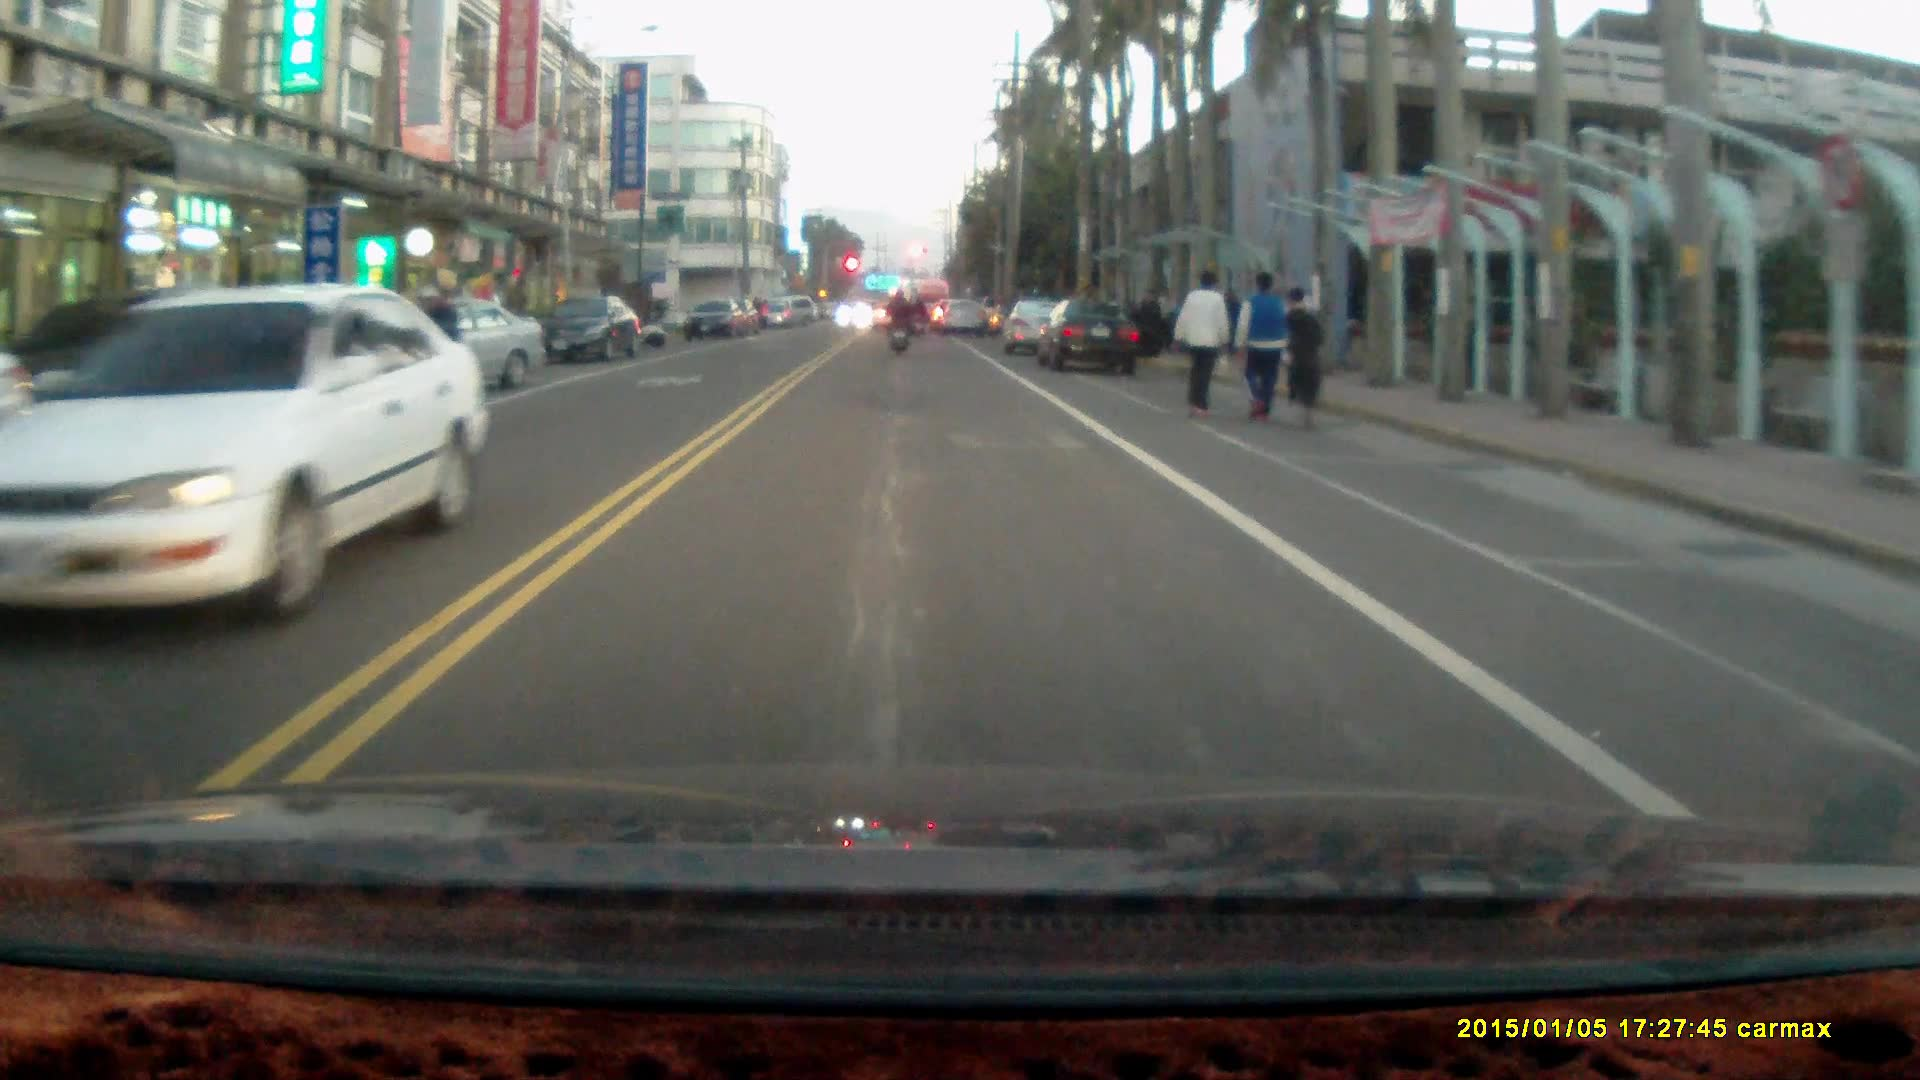pedestrian: (1233, 266, 1288, 425), (1172, 267, 1228, 423), (1278, 286, 1325, 431)
rider: (883, 285, 914, 356)
vehicle: (7, 286, 473, 636), (1039, 298, 1145, 377), (537, 295, 640, 369), (1004, 300, 1090, 361), (683, 297, 748, 340)
